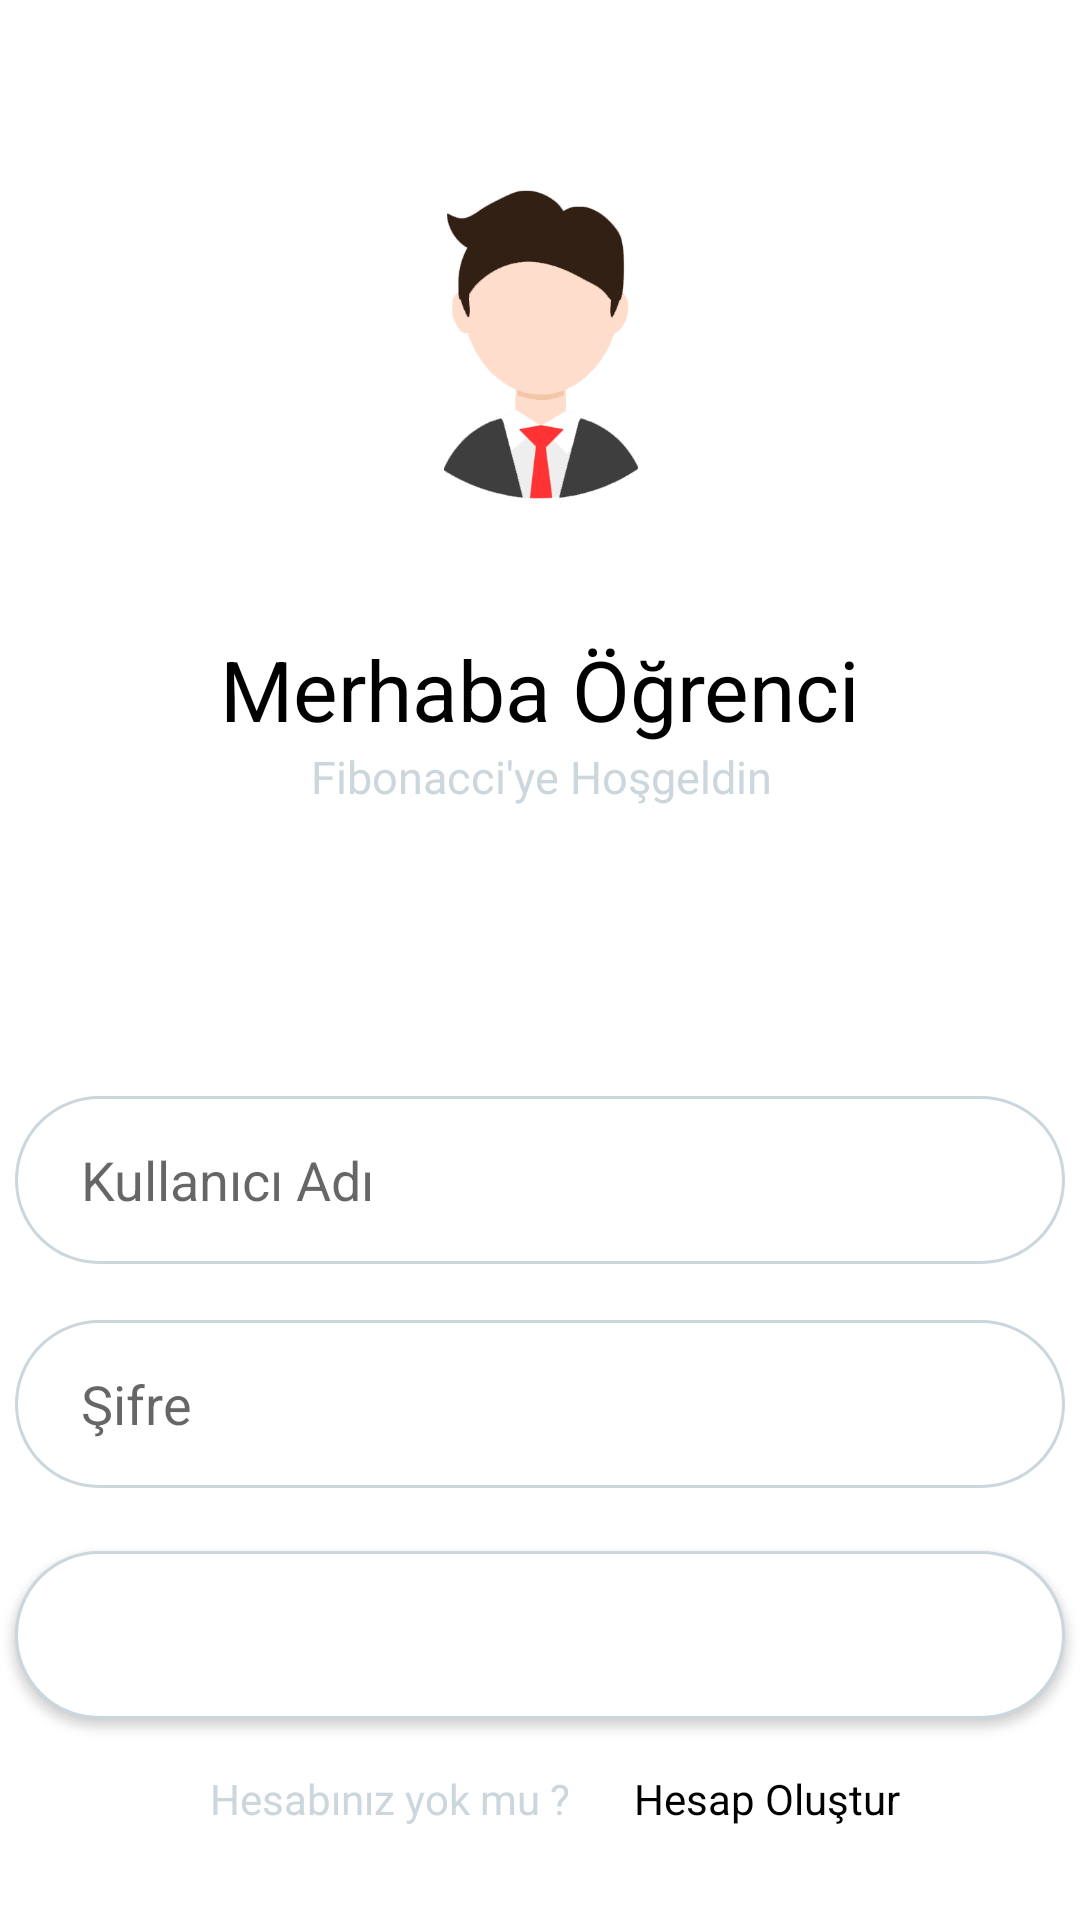

Point at icon controls on the screen. Image size 1080 x 1920, points as (x=x, y=y).
avatarrr: (x=541, y=344)
